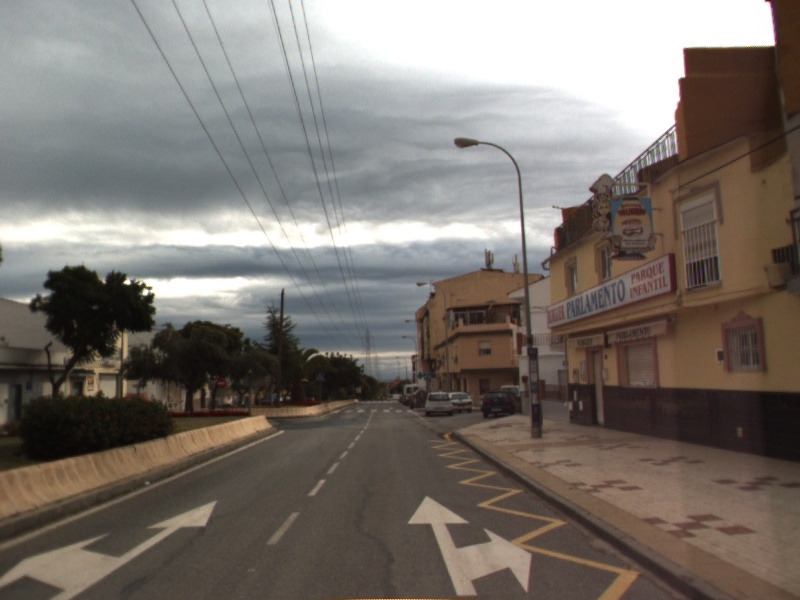STRAIGHT_LEFT: (1, 498, 219, 600)
STRAIGHT_RIGHT: (404, 493, 534, 598)
